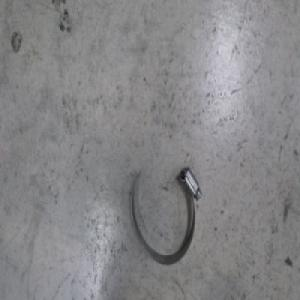AdjustableClamp: (129, 164, 202, 268)
